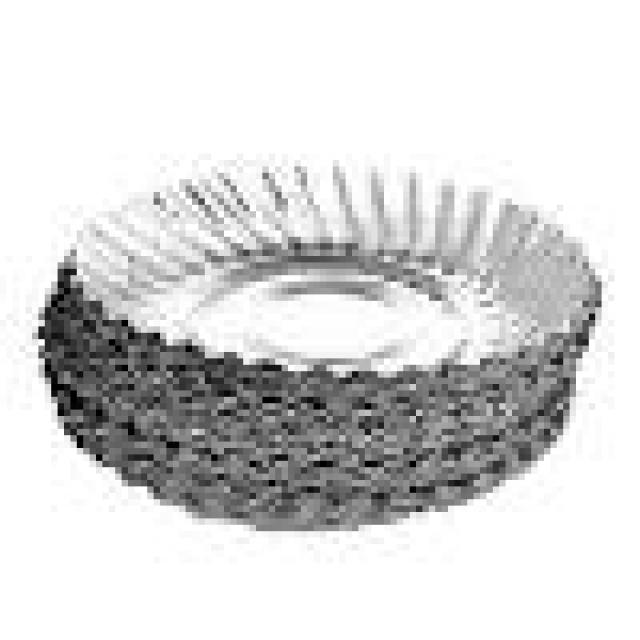Paper -Biodegradable-: (39, 164, 599, 531)
